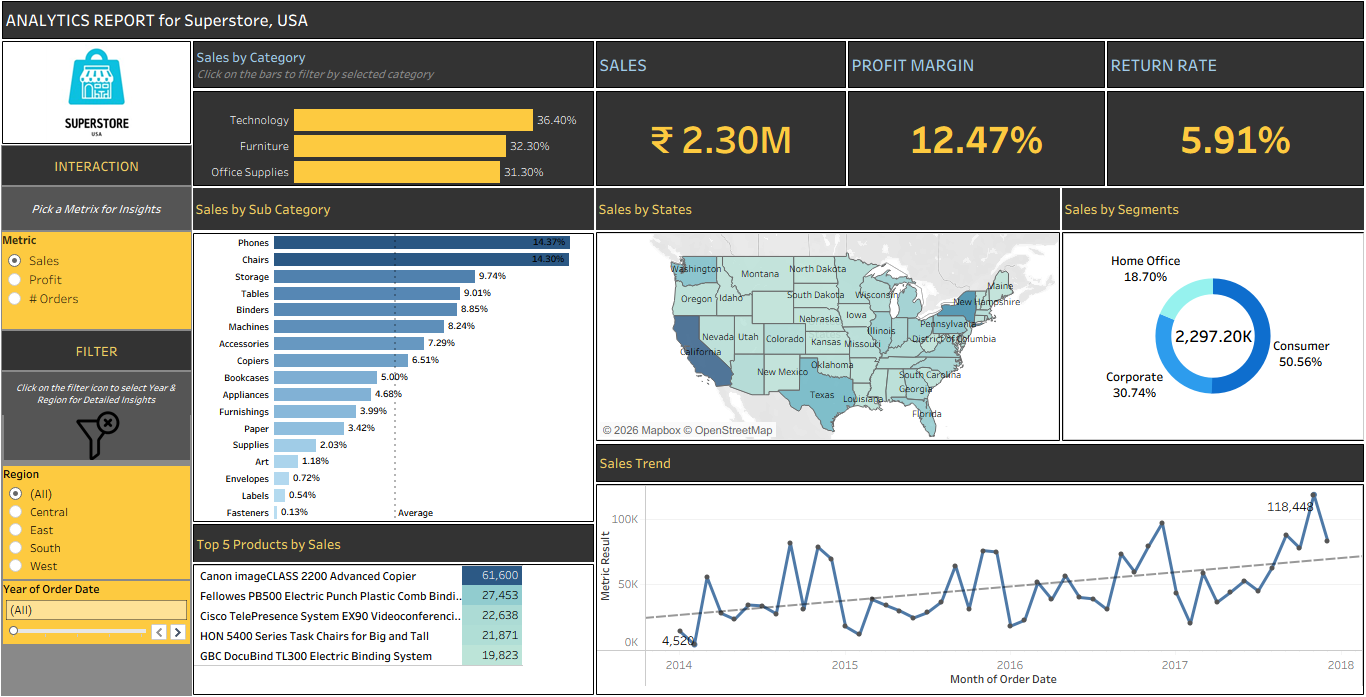

This screenshot's page, from the dashboard's own definition file:
{"tool":"tableau","page":{"name":"Dashboard","canvas":[1000,1000],"units":"permille","ordinal":0},"visuals":[{"type":"text","box":[0.9,1.8,998.3,57.9]},{"type":"image","param":"Image/Picture1.jpg","box":[0.9,59.7,139.5,150.4]},{"type":"text","box":[140.3,59.7,295.1,70.7]},{"type":"text","box":[435.4,59.7,184.2,70.7]},{"type":"text","box":[619.7,59.7,189.7,70.7]},{"type":"text","box":[809.3,59.7,189.8,70.7]},{"type":"worksheet","title":"Metric by Cat","mark":"Automatic","rows":["Category"],"cols":["Calculation_905786512752099330"],"box":[140.3,130.4,295.1,139.5]},{"type":"worksheet","title":"Sales","mark":"Automatic","box":[435.4,130.4,184.2,139.5]},{"type":"worksheet","title":"Profit Margin","mark":"Automatic","box":[619.7,130.4,189.7,139.5]},{"type":"worksheet","title":"Return Rate","mark":"Automatic","box":[809.3,130.4,189.8,139.5]},{"type":"text","box":[0.9,210.1,139.5,58.6]},{"type":"text","box":[0.9,268.7,139.5,64.5]},{"type":"text","box":[140.3,269.9,295.1,63.4]},{"type":"text","box":[435.4,269.9,340.9,63.4]},{"type":"text","box":[776.3,269.9,222.8,63.4]},{"type":"parameter","param":"[Parameters].[Parameter 2]","box":[0.9,333.2,139.5,141.3]},{"type":"worksheet","title":"Map","mark":"Multipolygon","box":[435.4,333.2,340.9,302.6]},{"type":"worksheet","title":"Donut","mark":"Pie","rows":["Calculation_905786512781971465","Calculation_905786512781983755"],"box":[776.3,333.2,222.8,302.6]},{"type":"worksheet","title":"Sales by Sub Cat","mark":"Automatic","rows":["Sub-Category"],"cols":["Calculation_905786512752099330"],"box":[140.3,333.3,295.1,416.7]},{"type":"text","box":[0.9,474.5,139.5,58]},{"type":"text","box":[0.9,532.5,139.5,65.2]},{"type":"dashboard-object","box":[2.6,590.6,136.8,70.7]},{"type":"blank","box":[0.9,597.8,139.5,68.8]},{"type":"text","box":[435.4,635.8,563.7,58]},{"type":"filter","title":"Metric by Cat","param":"[federated.16dnc2l0qkcpkl1ey2g6r065s4kk].[none:Region:nk]","box":[1.7,668.5,137.7,208.3]},{"type":"worksheet","title":"Trend","mark":"Automatic","rows":["Calculation_905786512752099330","Calculation_905786512752099330"],"cols":["Order Date"],"box":[435.4,693.7,563.7,304.4]},{"type":"text","box":[140.3,749.9,295.1,58]},{"type":"worksheet","title":"Top 5","mark":"Square","rows":["Product Name"],"box":[140.3,807.9,295.1,190.2]},{"type":"filter","title":"Metric by Cat","param":"[federated.16dnc2l0qkcpkl1ey2g6r065s4kk].[yr:Order Date:ok]","box":[1.7,876.8,137.7,117.8]}]}

Visuals, with their boxes on the dashboard's canvas, which has no fixed pixel size, in thousandths of its width and height (x1, y1, x2, y2). These are canvas units, not pixel positions in the 1366x697 screenshot, which may show the page scaled, cropped or inside an application window:
text: 1/2/999/60
image: 1/60/140/210
text: 140/60/435/130
text: 435/60/620/130
text: 620/60/809/130
text: 809/60/999/130
"Metric by Cat" worksheet: 140/130/435/270
"Sales" worksheet: 435/130/620/270
"Profit Margin" worksheet: 620/130/809/270
"Return Rate" worksheet: 809/130/999/270
text: 1/210/140/269
text: 1/269/140/333
text: 140/270/435/333
text: 435/270/776/333
text: 776/270/999/333
parameter: 1/333/140/474
"Map" worksheet (Multipolygon marks): 435/333/776/636
"Donut" worksheet (Pie marks): 776/333/999/636
"Sales by Sub Cat" worksheet: 140/333/435/750
text: 1/474/140/532
text: 1/532/140/598
dashboard-object: 3/591/139/661
blank: 1/598/140/667
text: 435/636/999/694
"Metric by Cat" filter: 2/668/139/877
"Trend" worksheet: 435/694/999/998
text: 140/750/435/808
"Top 5" worksheet (Square marks): 140/808/435/998
"Metric by Cat" filter: 2/877/139/995
